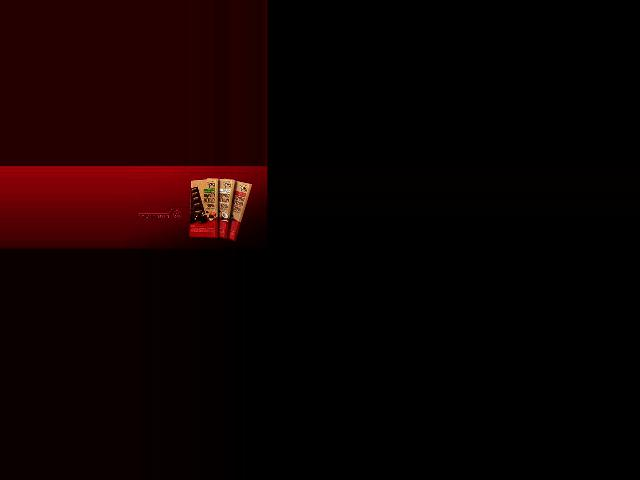chocolate: (221, 177, 251, 243)
